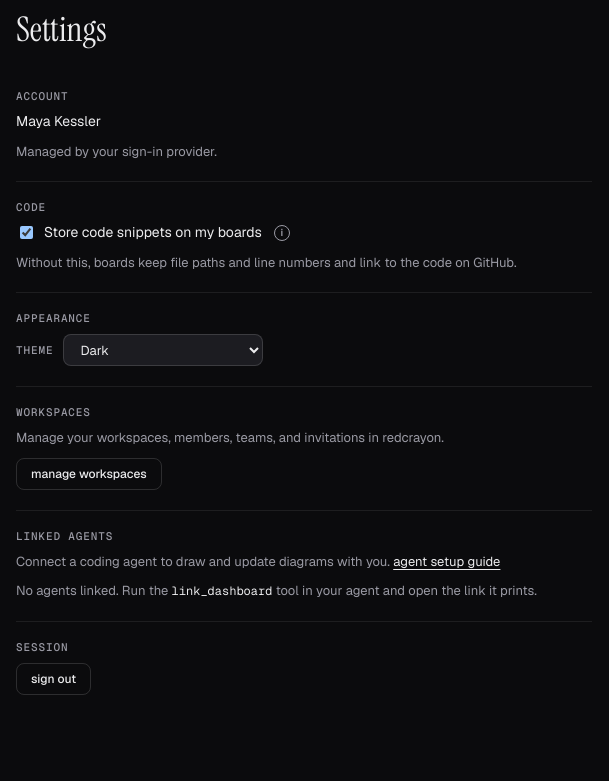
Test case: settings page › code snippet consent › asks before deleting snippets, and only "delete snippets" turns it off
The width and height of the screenshot is (609, 781).
Click the checkbox labelled "Store code snippets on my boards".
click(26, 233)  # box [20, 226, 33, 239]
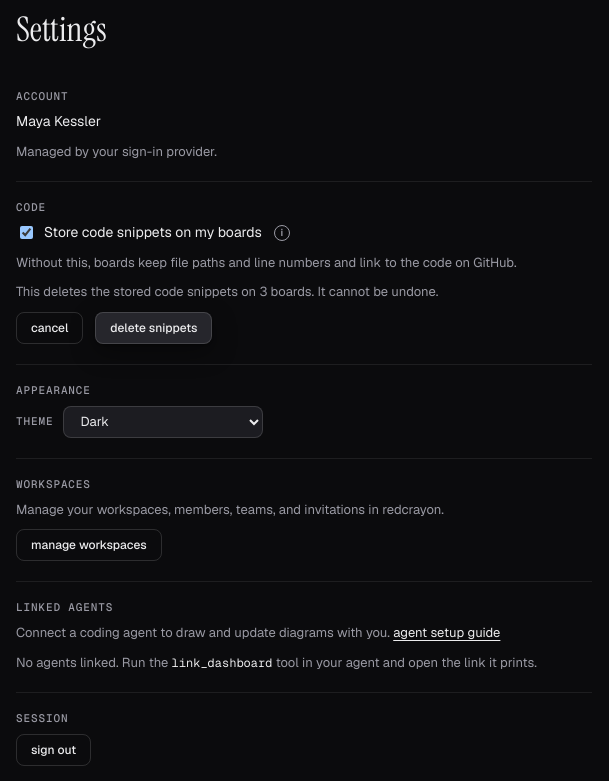
Now the text "This deletes the stored code snippets on 3 boards. It cannot be undone." is shown, box [16, 282, 438, 302]
Click the button "cancel".
click(50, 328)  # box [16, 312, 83, 344]
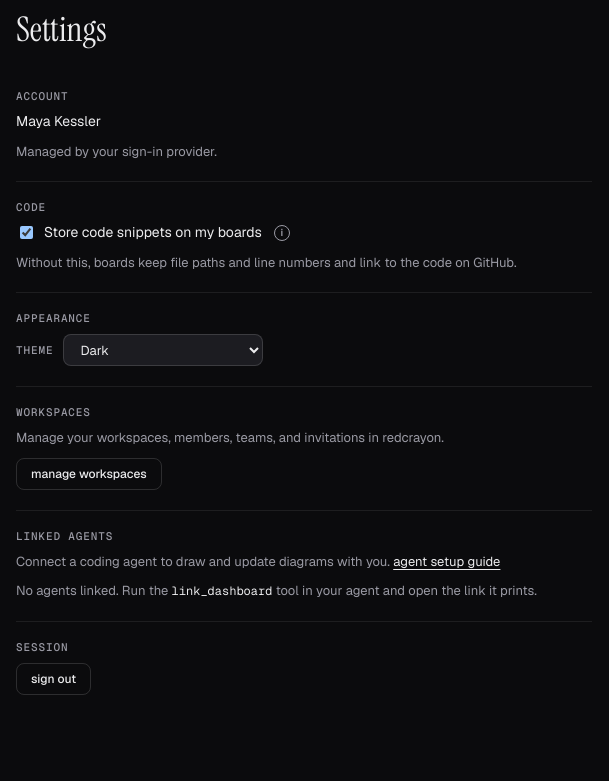
Now the text "This deletes the stored code snippets" is gone
Click the checkbox labelled "Store code snippets on my boards".
click(26, 233)  # box [20, 226, 33, 239]
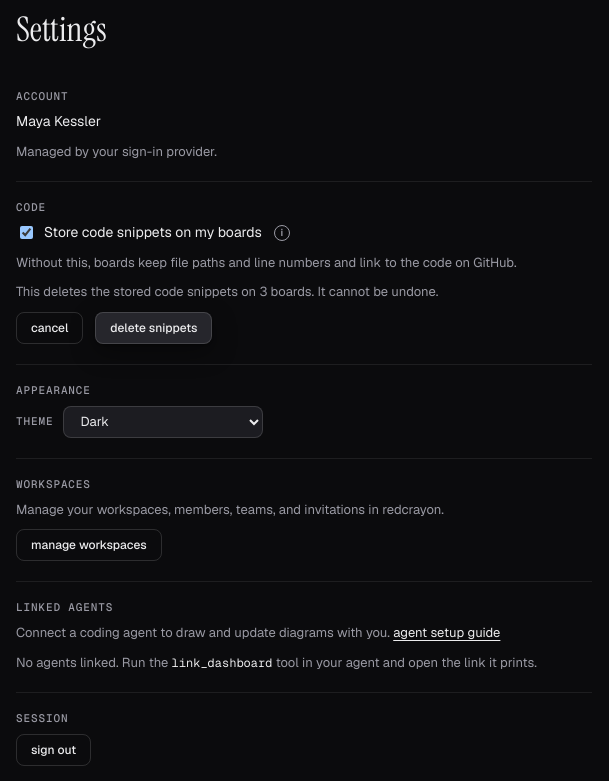
Click the button "delete snippets".
click(154, 328)  # box [95, 312, 212, 344]
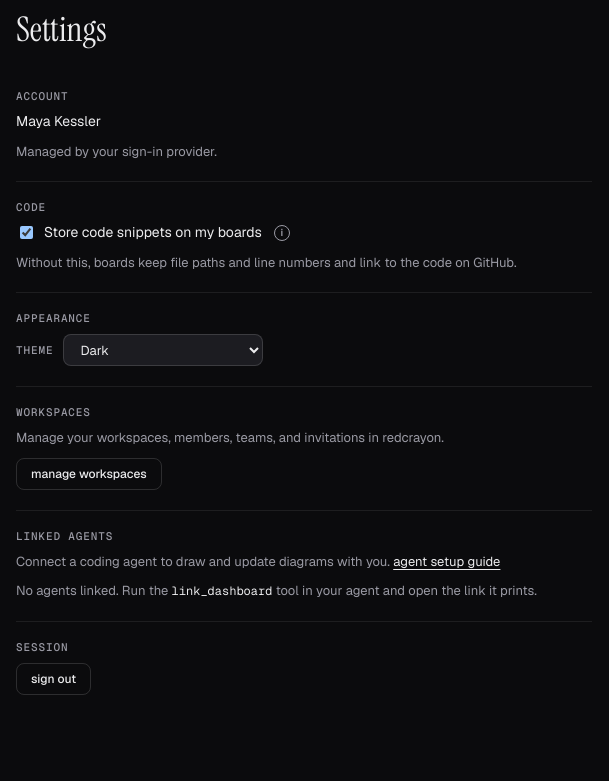
Now the text "This deletes the stored code snippets" is gone
